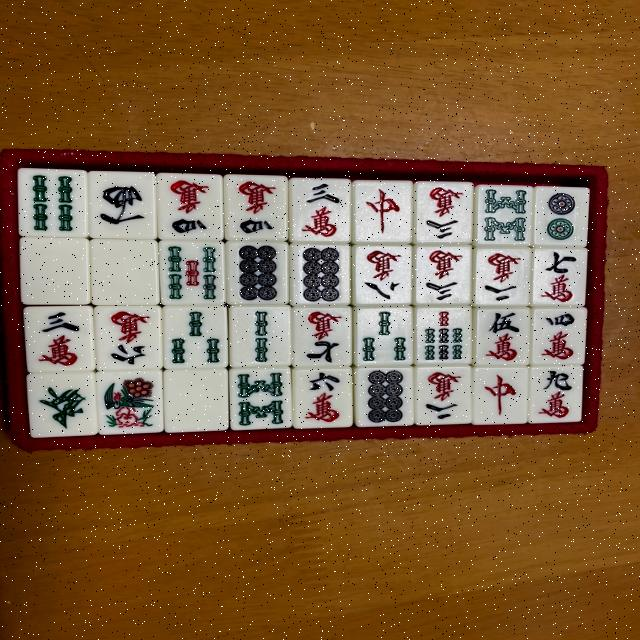bamboos_1: (94, 369, 165, 435)
bamboos_2: (228, 305, 292, 369)
bamboos_3: (162, 304, 231, 368), (352, 306, 417, 366)
bamboos_4: (16, 168, 89, 239)
bamboos_5: (160, 242, 228, 307)
bamboos_7: (411, 304, 478, 366)
bamboos_8: (474, 182, 536, 249), (230, 368, 295, 430)
characters_2: (472, 246, 535, 307), (416, 368, 474, 424)
characters_3: (24, 306, 96, 373), (288, 178, 353, 244), (414, 182, 477, 244), (411, 246, 474, 306)
characters_4: (156, 175, 225, 242), (224, 173, 291, 242), (530, 307, 588, 365)
characters_5: (470, 308, 533, 368)
characters_6: (96, 305, 165, 372), (292, 366, 356, 429)
characters_7: (291, 306, 356, 366), (532, 244, 589, 307)
characters_8: (352, 245, 416, 305)
characters_9: (529, 366, 582, 422)
circles_2: (535, 186, 592, 250)
circles_8: (354, 364, 417, 428), (288, 244, 354, 305), (227, 244, 291, 306)
green: (26, 370, 100, 440)
red: (350, 179, 416, 244), (474, 366, 528, 424)
west: (87, 171, 158, 240)
white: (18, 238, 93, 304), (89, 238, 162, 304), (162, 369, 228, 434)
